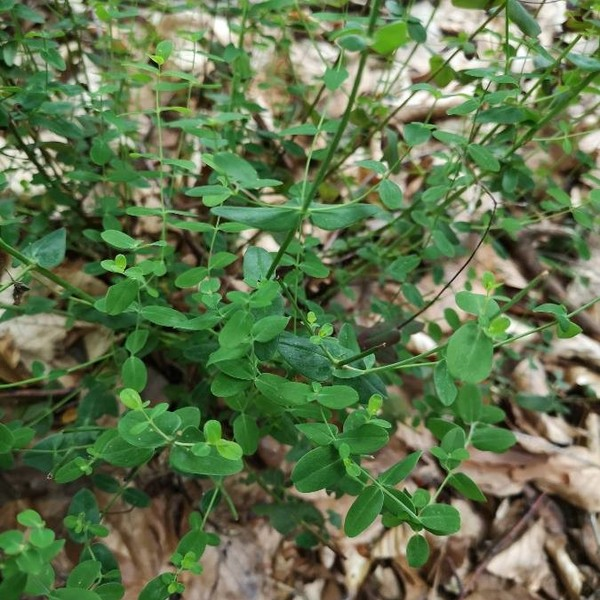obstacle: (82, 14, 522, 540)
